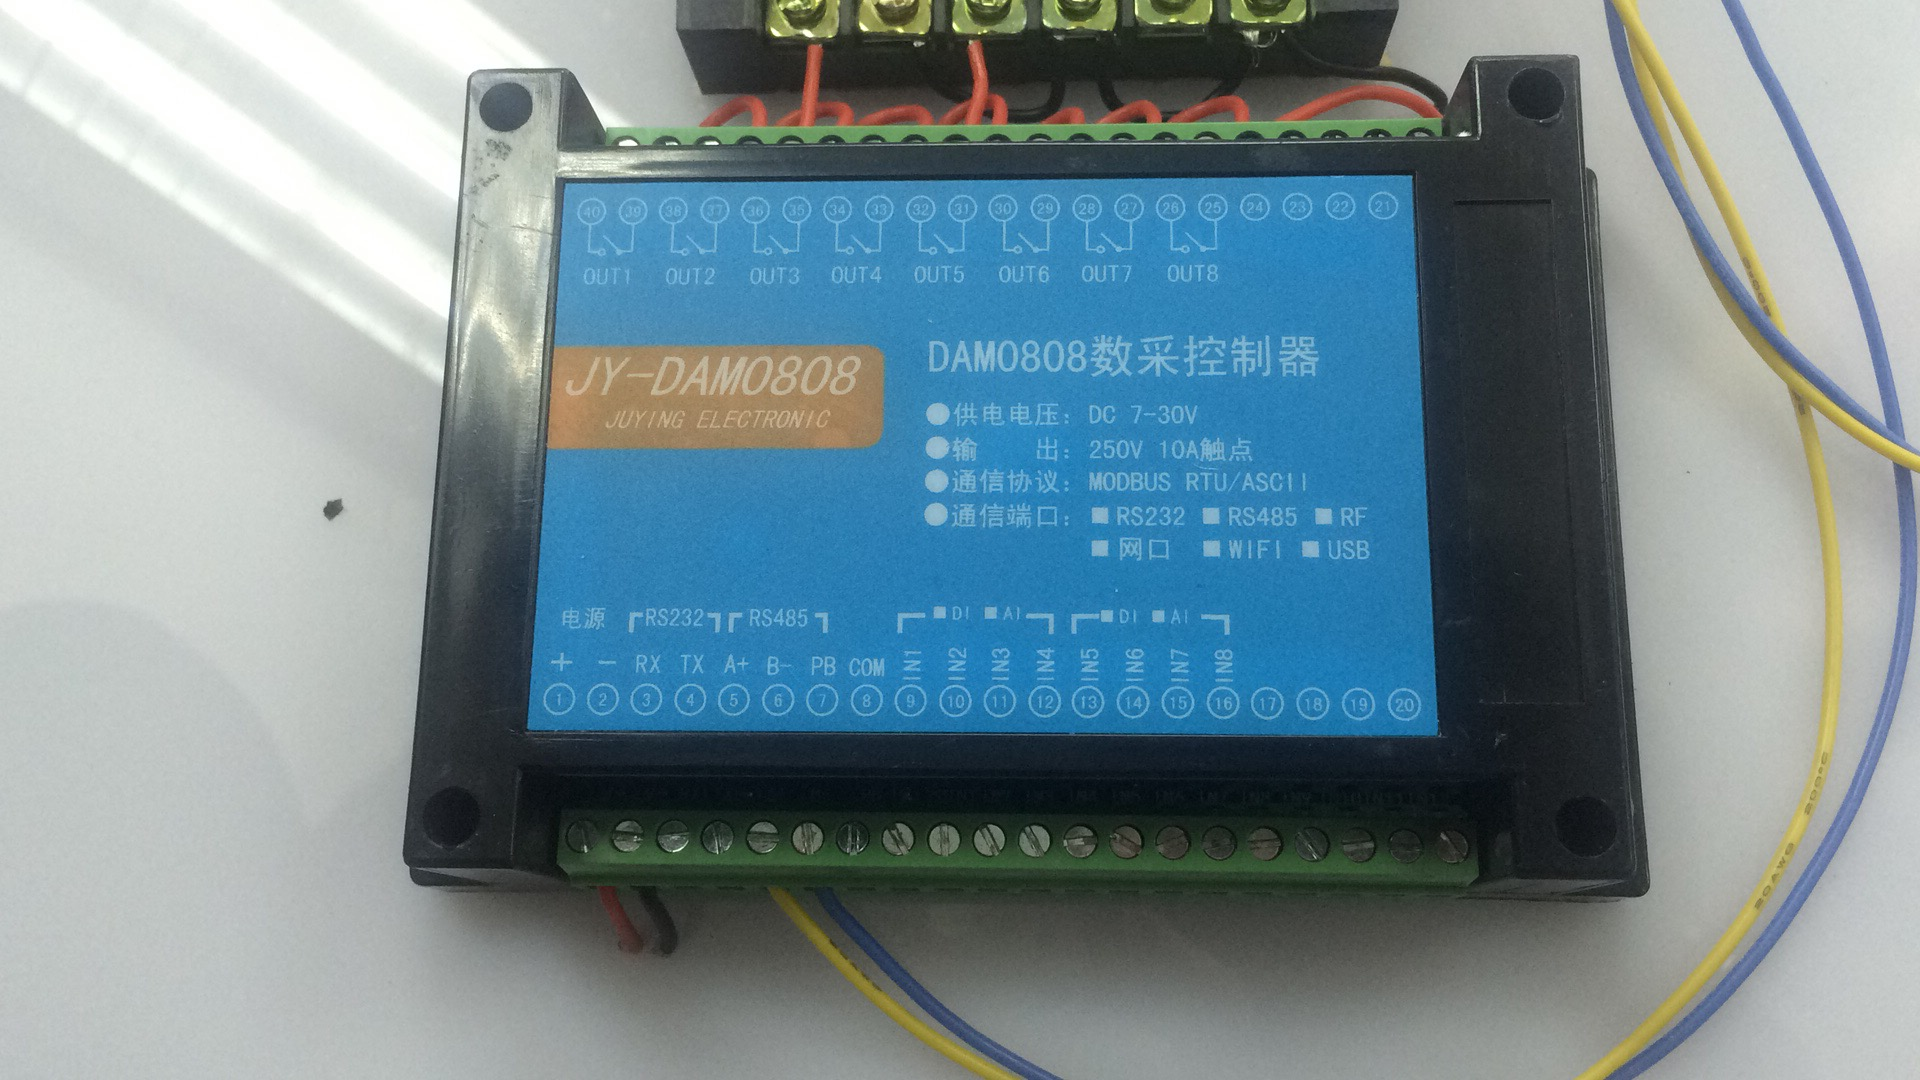relay: (389, 61, 1702, 936)
